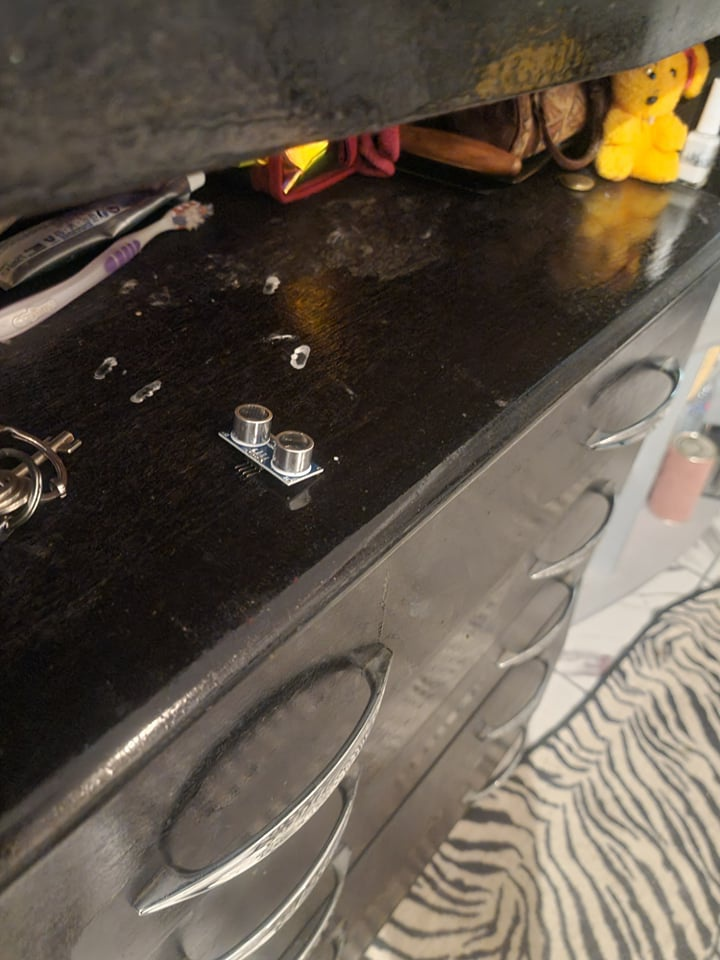SENSOR: (215, 400, 327, 489)
